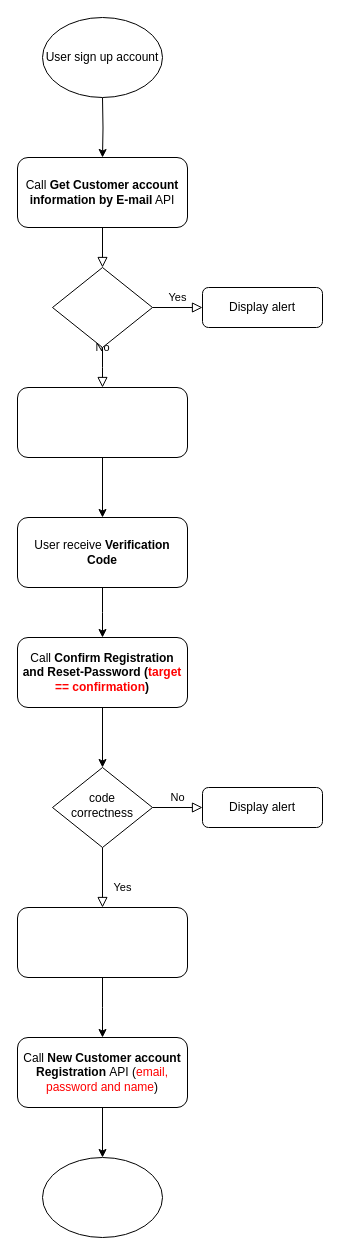
This 340x1255 diagram has some shape labels left out. Here are the shapes that lost their labels. From the top down, the centre of each, then its label:
[102,307]: account exists
[102,422]: Call New Customer account Application API
[102,942]: Display name and password page for user to type in
[102,1197]: Finish sign up process
